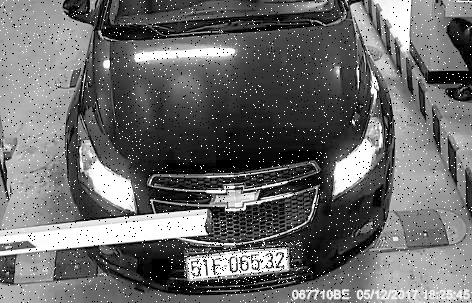License-plate: (186, 243, 306, 284)
